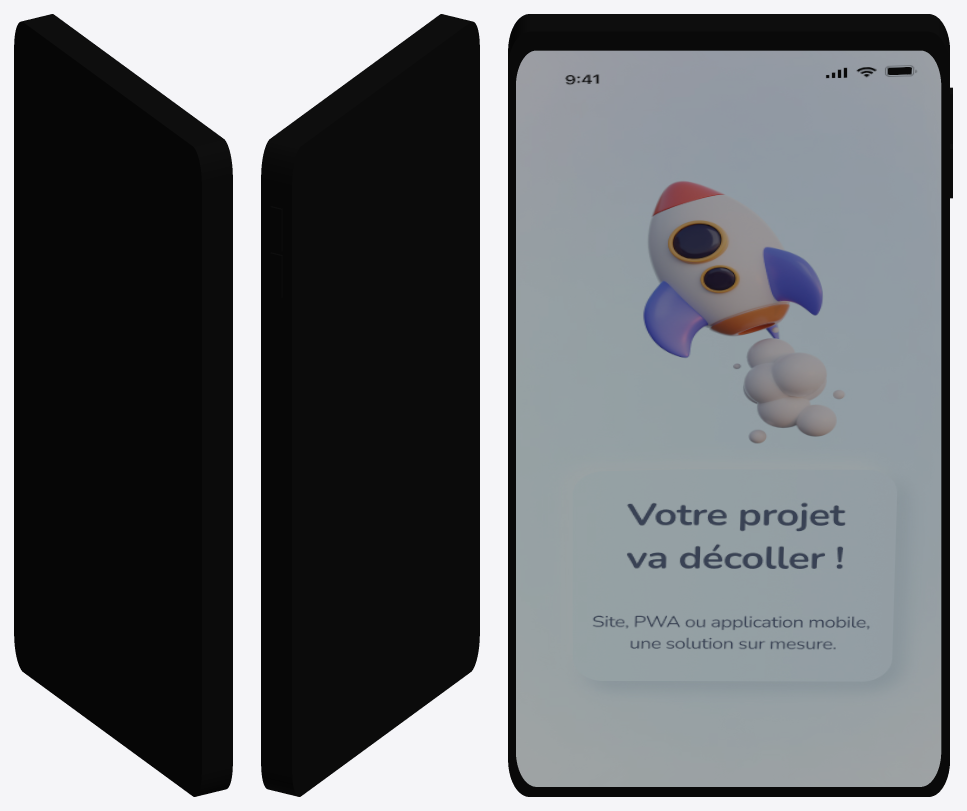
File: Mobile.gltf
3 renders of one model, left to right at view 1: azimuth 30°, elevation 25°; view 2: azimuth 150°, elevation 25°; view 3: azimuth 270°, elevation 25°, orthographic. The views are drawn at different scales.
Visible parts, largest first — view 1: Plane; view 2: Plane; view 3: Plane.
Part boxes in pixels (box(x1,y1,x2,y2)): Plane: box(14, 14, 232, 796); Plane: box(261, 14, 479, 796); Plane: box(508, 14, 952, 796).
Bounding box in the file's own units: 0.1946 × 3.82 × 2.01.
Materials: 3 (1 with a texture image).
